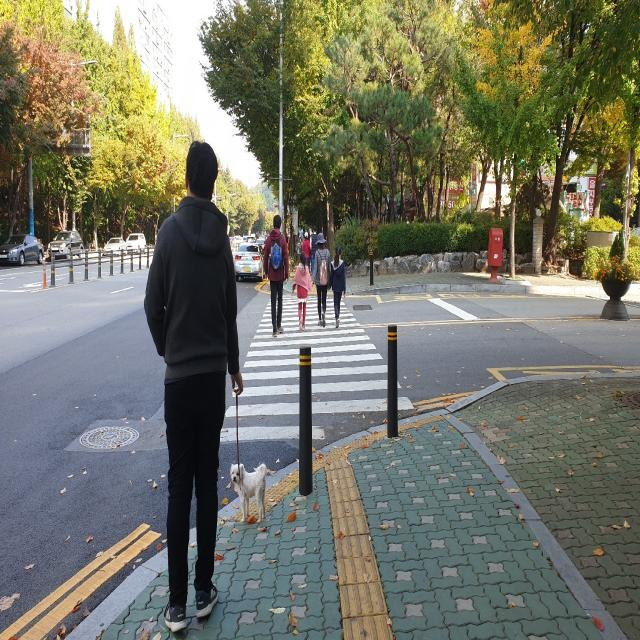횡단보도: (220, 293, 416, 443)
